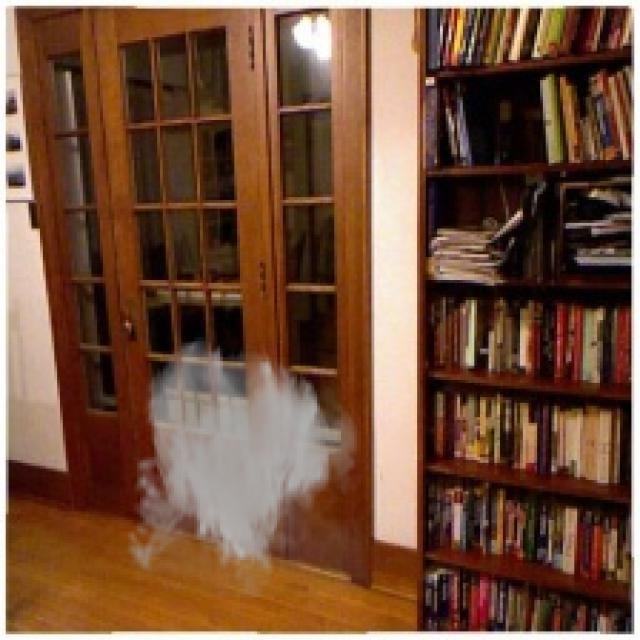smoke: (120, 334, 366, 597)
